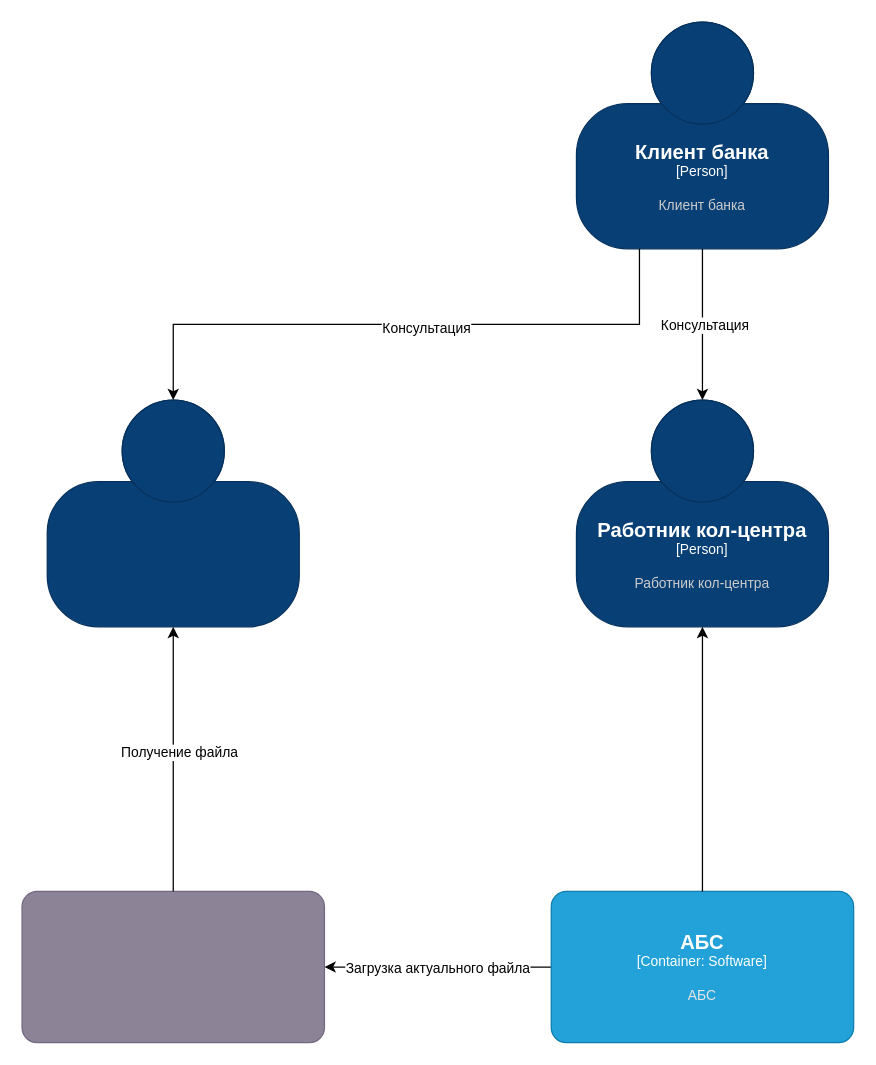
Image size: 876x1065. Some labels were removed from this diagram. Each missing label, with the centre of its shape:
"FTP [Software System] FTP" goes at (x=172, y=966).
"Работник партнерского кол-центра [Person] Работник партнерского кол-центра" goes at (x=172, y=513).
